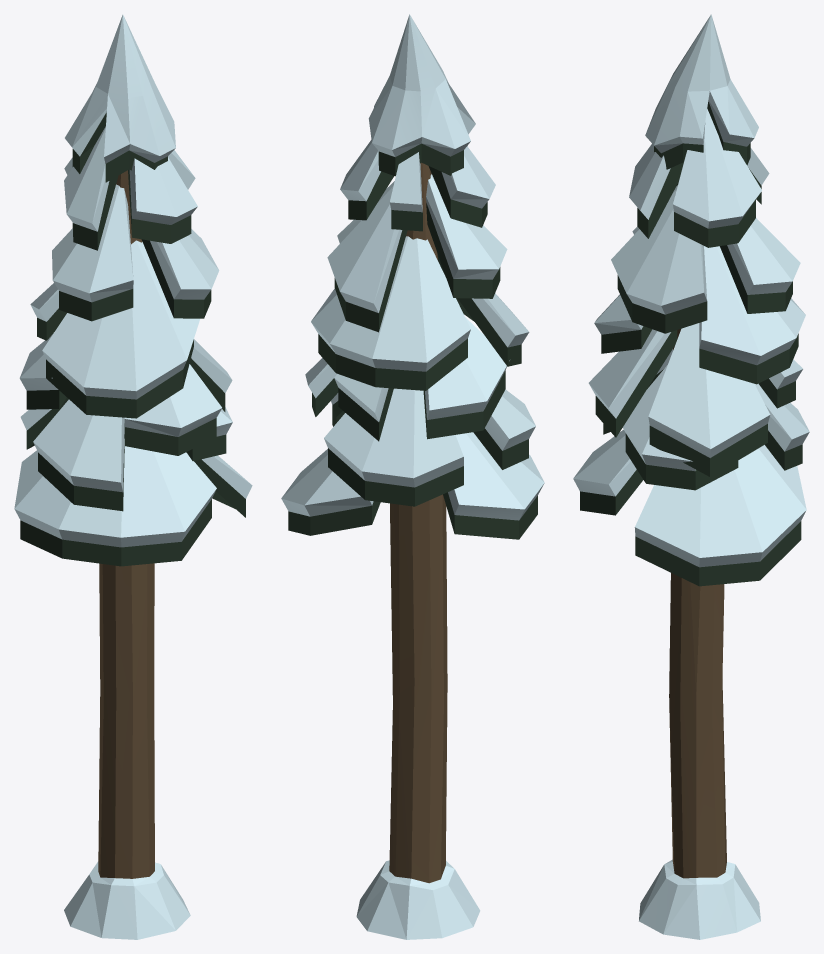
The model's file is Pino_Grande03.glb.
3 renders of one model, left to right at view 1: azimuth 30°, elevation 25°; view 2: azimuth 150°, elevation 25°; view 3: azimuth 270°, elevation 25°, orthographic.
Parts seen in each view (by area): view 1: SM_Env_Tree_Pine_Large_03_Snow; view 2: SM_Env_Tree_Pine_Large_03_Snow; view 3: SM_Env_Tree_Pine_Large_03_Snow.
Boxes of the visible parts, <box> form: SM_Env_Tree_Pine_Large_03_Snow: <box>14,14,252,939</box>; SM_Env_Tree_Pine_Large_03_Snow: <box>281,14,544,939</box>; SM_Env_Tree_Pine_Large_03_Snow: <box>573,14,809,939</box>.
Bounding box in the file's own units: 2.14 × 8.29 × 1.94.
1 material, 1 textured.
